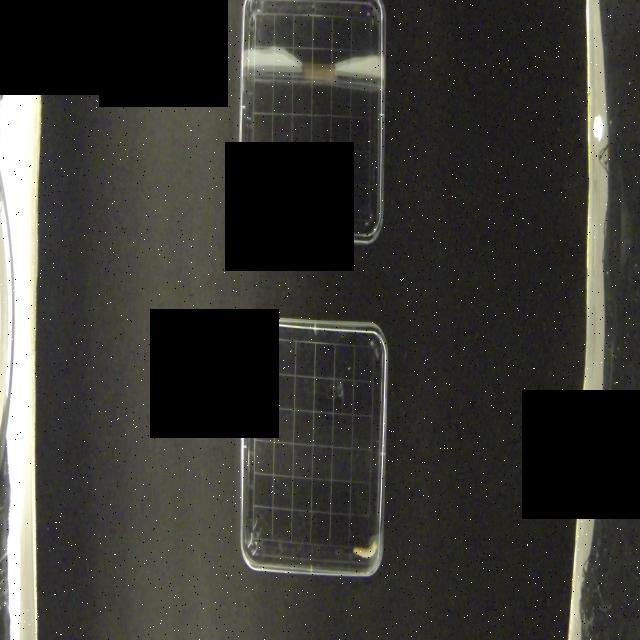larva: (249, 190, 273, 226), (353, 537, 379, 562)
